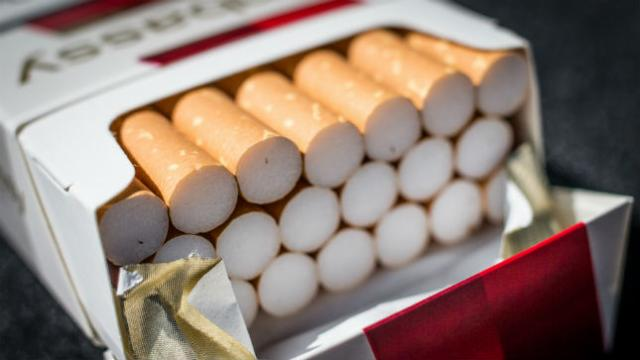cigarette: (1, 1, 543, 304)
